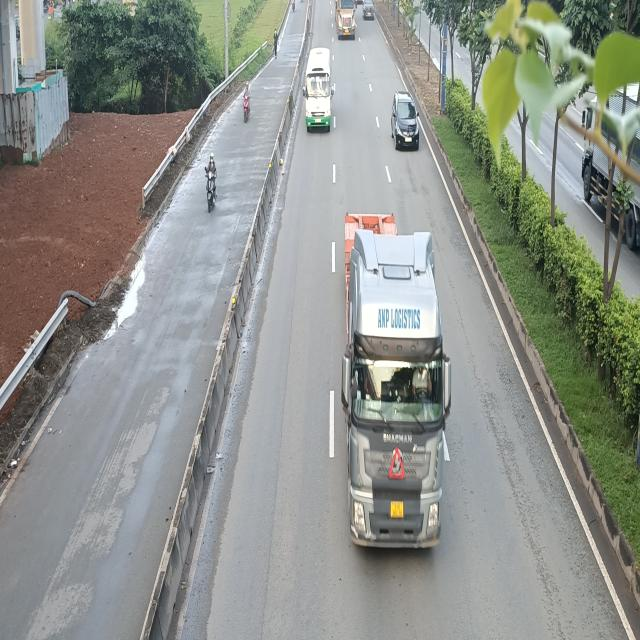car: (391, 91, 419, 150)
coach: (305, 48, 337, 133)
container: (344, 215, 457, 556), (335, 0, 358, 38)
